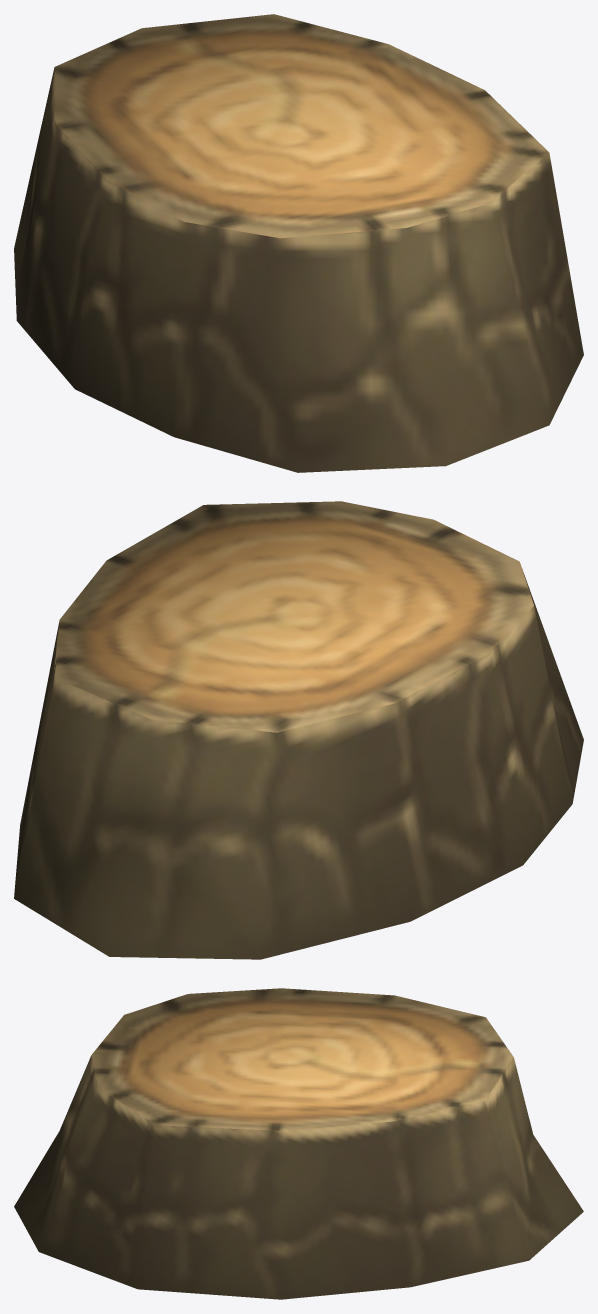
Rendered from Stage_CaoYuan_ShuZhuang02.FBX.
3 views of the same model, one above another, from view 1: azimuth 30°, elevation 25°; view 2: azimuth 150°, elevation 25°; view 3: azimuth 270°, elevation 25° (orthographic). The views are drawn at different scales.
Parts seen in each view (by area): view 1: Stage_CaoYuan_ShuZhuang02; view 2: Stage_CaoYuan_ShuZhuang02; view 3: Stage_CaoYuan_ShuZhuang02.
Part boxes in pixels (bbox=[...]): Stage_CaoYuan_ShuZhuang02: bbox=[14, 14, 583, 472]; Stage_CaoYuan_ShuZhuang02: bbox=[14, 501, 583, 959]; Stage_CaoYuan_ShuZhuang02: bbox=[14, 988, 583, 1299].
Bounding box in the file's own units: 60.3 × 25.86 × 85.93.
